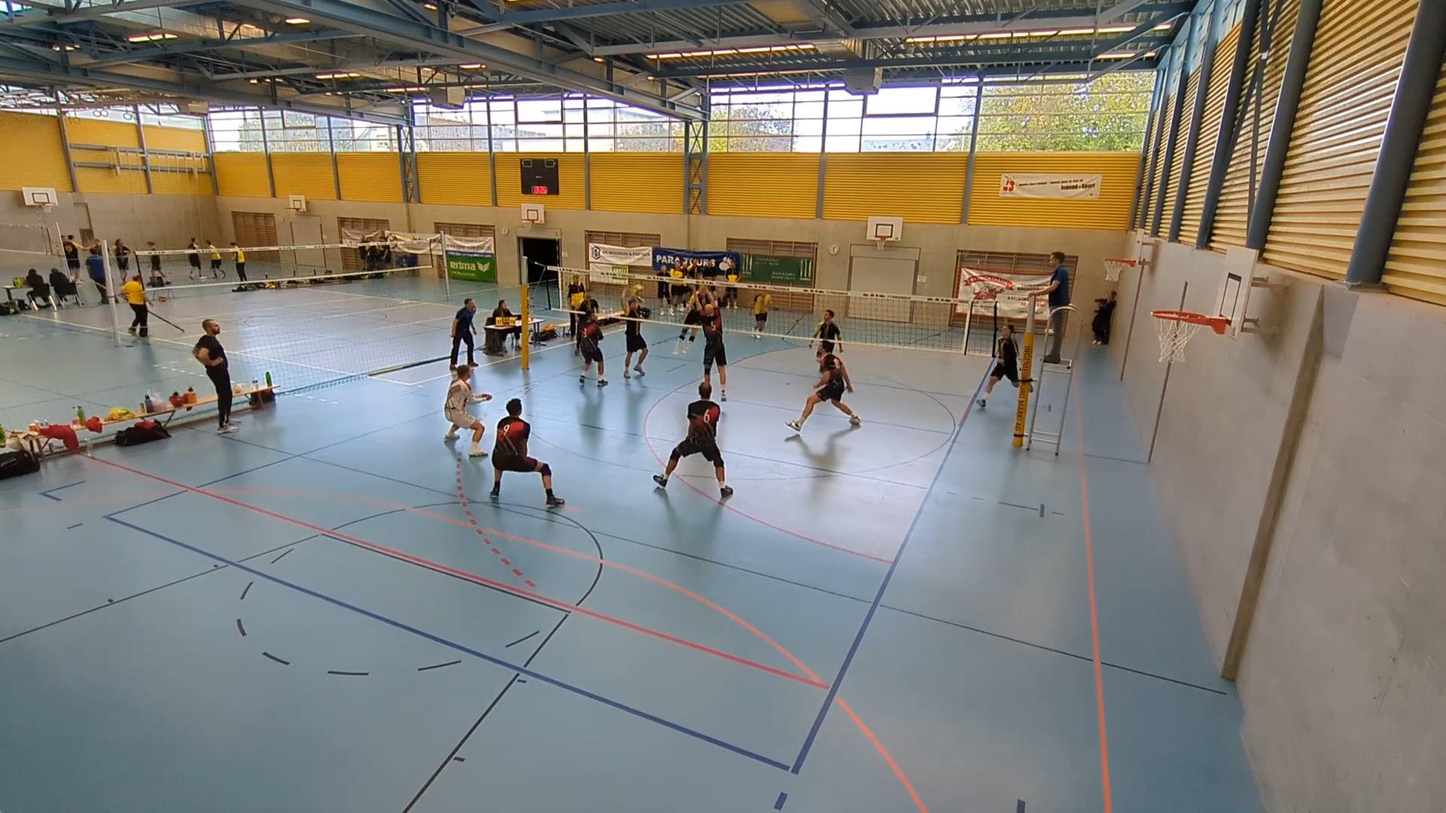Attack: (669, 266, 716, 361)
Block: (688, 282, 731, 399)
Player: (653, 381, 733, 498), (490, 399, 564, 507), (787, 354, 860, 431), (444, 364, 490, 457), (979, 324, 1018, 406), (578, 312, 607, 386), (624, 294, 648, 378), (809, 309, 841, 359), (753, 291, 771, 338)
ball: (664, 265, 685, 288)
